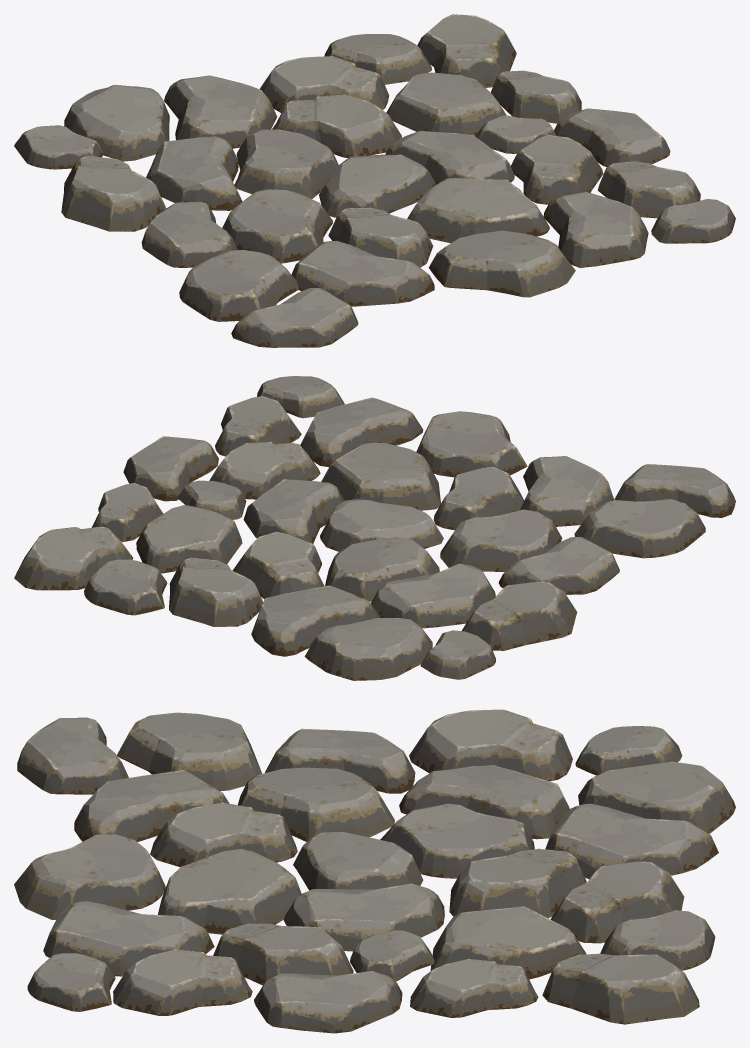
Rendered from RockPath_Round_Wide__go_coast.glb.
3 views of the same model, one above another, from view 1: azimuth 30°, elevation 25°; view 2: azimuth 150°, elevation 25°; view 3: azimuth 270°, elevation 25° (orthographic). The views are drawn at different scales.
Parts seen in each view (by area): view 1: RockPath_Round_Wide; view 2: RockPath_Round_Wide; view 3: RockPath_Round_Wide.
Boxes of the visible parts, bbox=[...] form: RockPath_Round_Wide: bbox=[14, 14, 735, 347]; RockPath_Round_Wide: bbox=[14, 376, 735, 680]; RockPath_Round_Wide: bbox=[14, 709, 735, 1033].
Bounding box in the file's own units: 2.11 × 0.1128 × 2.13.
1 material, 1 textured.
